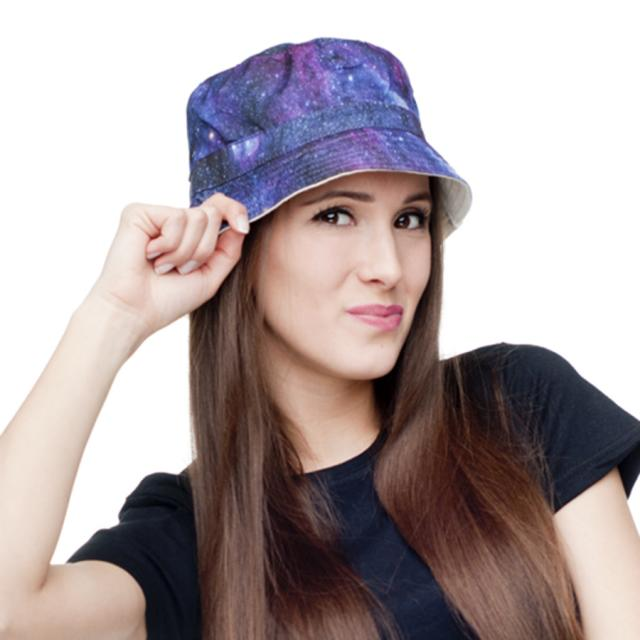hat: (158, 34, 469, 378)
